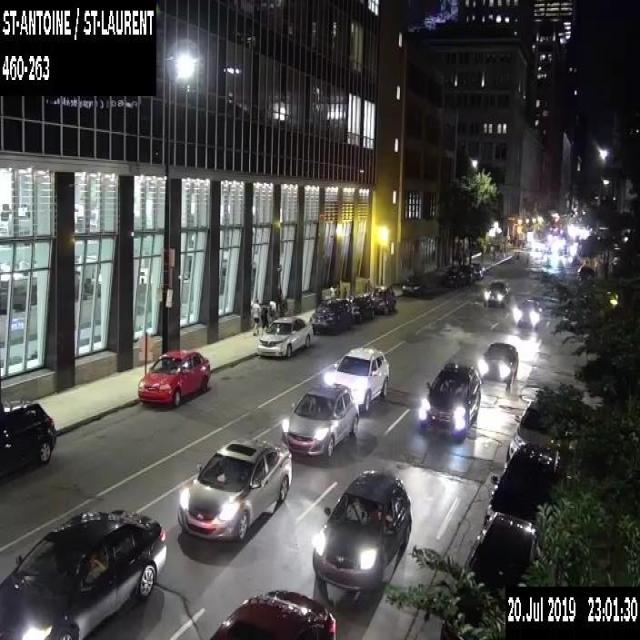construction: (134, 329, 156, 363), (581, 258, 602, 274)
pedestrian: (251, 298, 261, 335), (260, 302, 268, 332), (268, 298, 276, 322), (328, 282, 336, 296), (334, 282, 340, 296), (342, 285, 347, 298)
vehicle: (0, 505, 166, 638), (175, 433, 292, 543), (438, 509, 537, 638), (312, 467, 413, 593), (483, 441, 564, 534), (208, 586, 337, 638), (282, 381, 359, 458), (0, 397, 58, 492), (420, 361, 480, 436), (136, 346, 210, 406), (505, 399, 572, 460), (327, 346, 389, 411), (257, 314, 314, 358), (479, 341, 518, 386), (311, 297, 351, 333), (516, 297, 543, 327), (369, 284, 396, 312), (484, 278, 510, 306), (350, 294, 375, 322), (401, 273, 428, 296), (444, 268, 464, 286), (457, 263, 474, 281), (468, 262, 482, 278)
